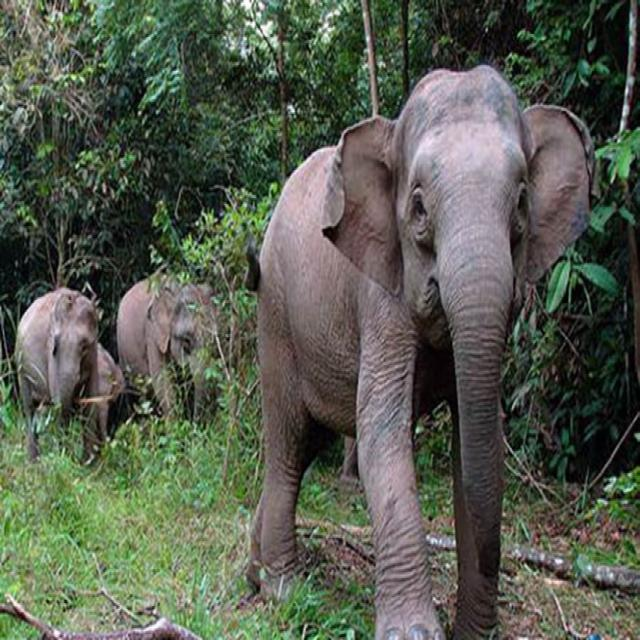Elephant: (241, 25, 595, 640), (0, 242, 110, 500), (117, 255, 237, 448)
